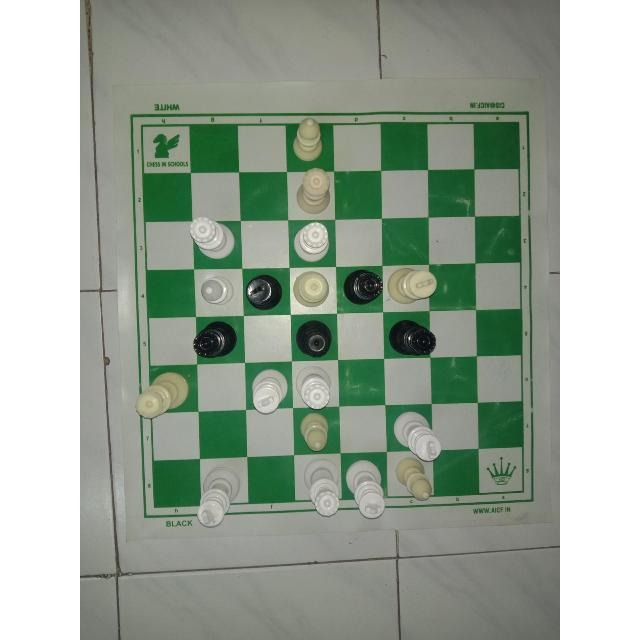black-king: (242, 273, 286, 315)
black-queen: (189, 319, 241, 359), (388, 317, 440, 356), (343, 267, 386, 309), (295, 318, 334, 362)
white-bishop: (392, 457, 435, 507), (289, 116, 331, 160), (295, 411, 333, 454), (196, 271, 237, 310)
white-king: (193, 462, 243, 532), (342, 456, 386, 525), (390, 411, 444, 465), (249, 364, 290, 418), (387, 264, 439, 305)
white-queen: (135, 368, 192, 422), (301, 455, 341, 519), (188, 214, 236, 260), (291, 363, 337, 409), (295, 165, 335, 213), (290, 219, 335, 261), (294, 271, 335, 311)
